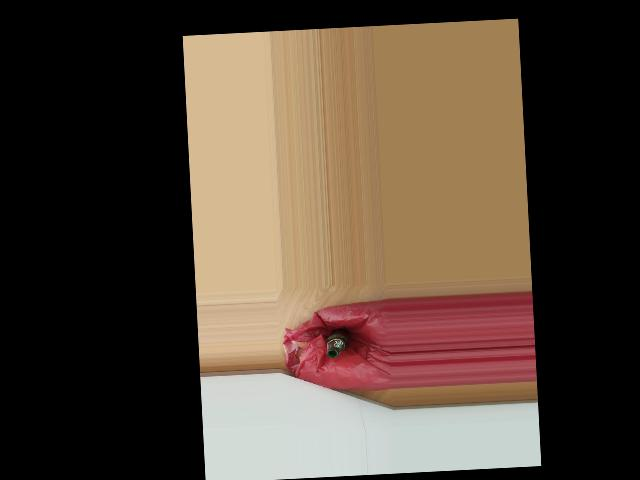beer: (325, 327, 350, 357)
